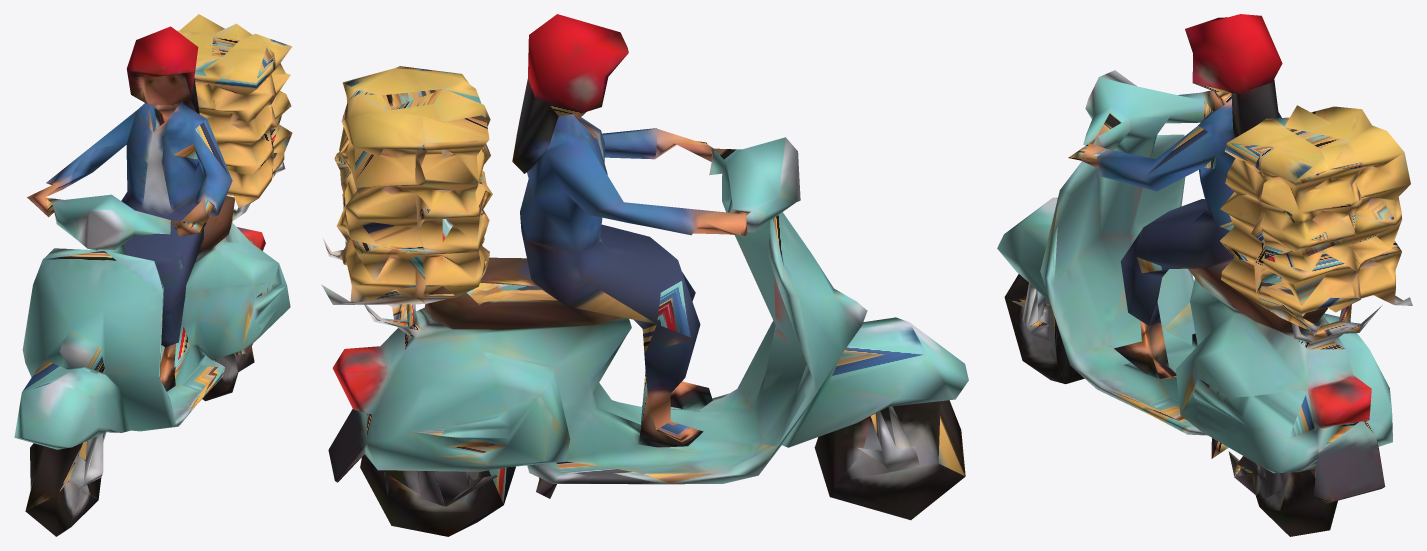
The model's file is scooter.glb.
The picture shows the model from 3 angles, left to right: view 1: azimuth 30°, elevation 25°; view 2: azimuth 150°, elevation 25°; view 3: azimuth 270°, elevation 25°; orthographic projection. The views are drawn at different scales.
Parts seen in each view (by area): view 1: tripo_node_be259347-9701-4279-a222-06fc1ab5f3da; view 2: tripo_node_be259347-9701-4279-a222-06fc1ab5f3da; view 3: tripo_node_be259347-9701-4279-a222-06fc1ab5f3da.
Part boxes in pixels (left/top/right/bottom): tripo_node_be259347-9701-4279-a222-06fc1ab5f3da: left=14, top=14, right=292, bottom=536; tripo_node_be259347-9701-4279-a222-06fc1ab5f3da: left=321, top=14, right=968, bottom=536; tripo_node_be259347-9701-4279-a222-06fc1ab5f3da: left=997, top=14, right=1412, bottom=536.
Size of the model in its own units: 0.9593 by 0.9784 by 0.7706.
1 material, 1 textured.
